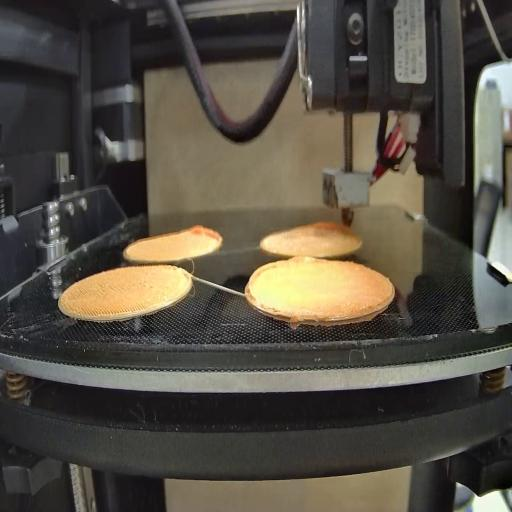over_extrusion: (248, 261, 278, 306), (192, 225, 225, 250), (315, 217, 341, 235), (288, 254, 326, 266)
